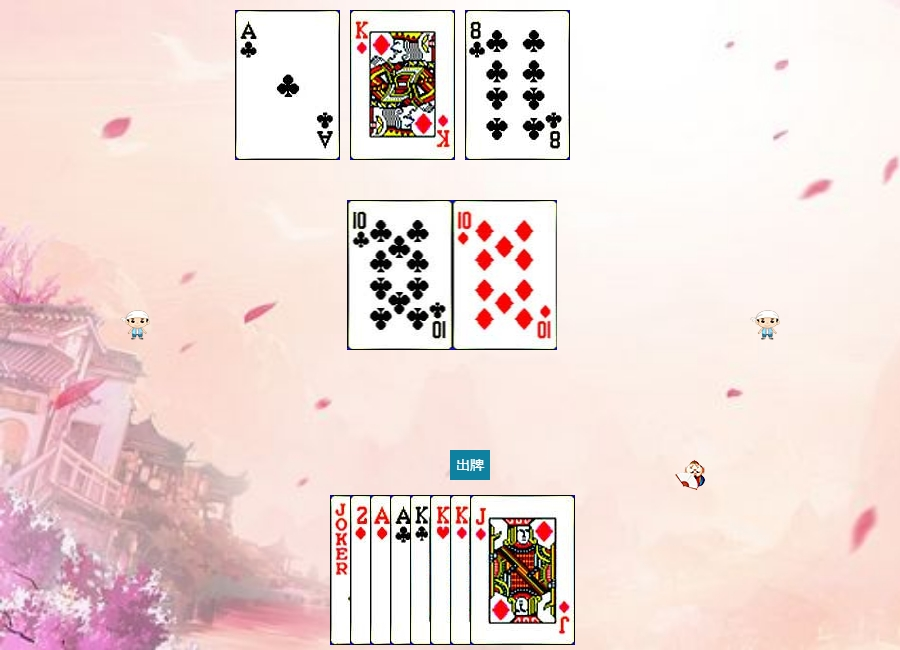10~1: (453, 200, 558, 350)
10~2: (348, 200, 453, 350)
11~1: (470, 495, 575, 645)
13~1: (350, 10, 455, 160), (450, 495, 555, 645)
13~2: (410, 495, 515, 645)
13~3: (430, 495, 535, 645)
14~1: (370, 495, 475, 645)
14~2: (235, 10, 340, 160), (390, 495, 495, 645)
15~1: (350, 495, 455, 645)
18~4: (330, 495, 435, 645)
8~2: (465, 10, 570, 160)
